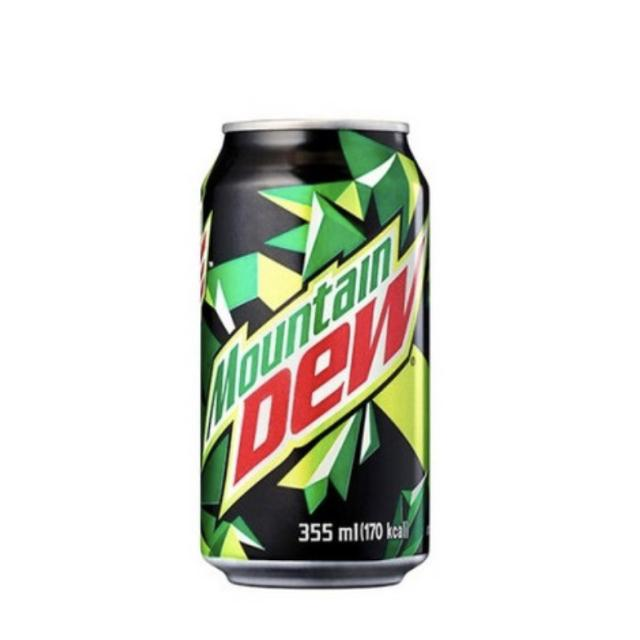recyclable: (178, 84, 450, 596)
